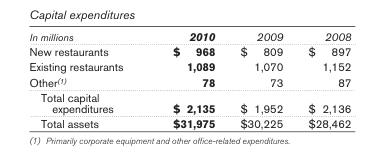table: (28, 29, 350, 129)
table column: (28, 29, 147, 129), (147, 29, 226, 129), (226, 29, 294, 129), (294, 29, 350, 129)
table column header: (28, 29, 350, 43)
table row: (28, 89, 350, 115), (28, 58, 350, 74), (28, 43, 350, 58), (28, 74, 350, 89), (28, 29, 350, 43), (28, 115, 350, 129)
